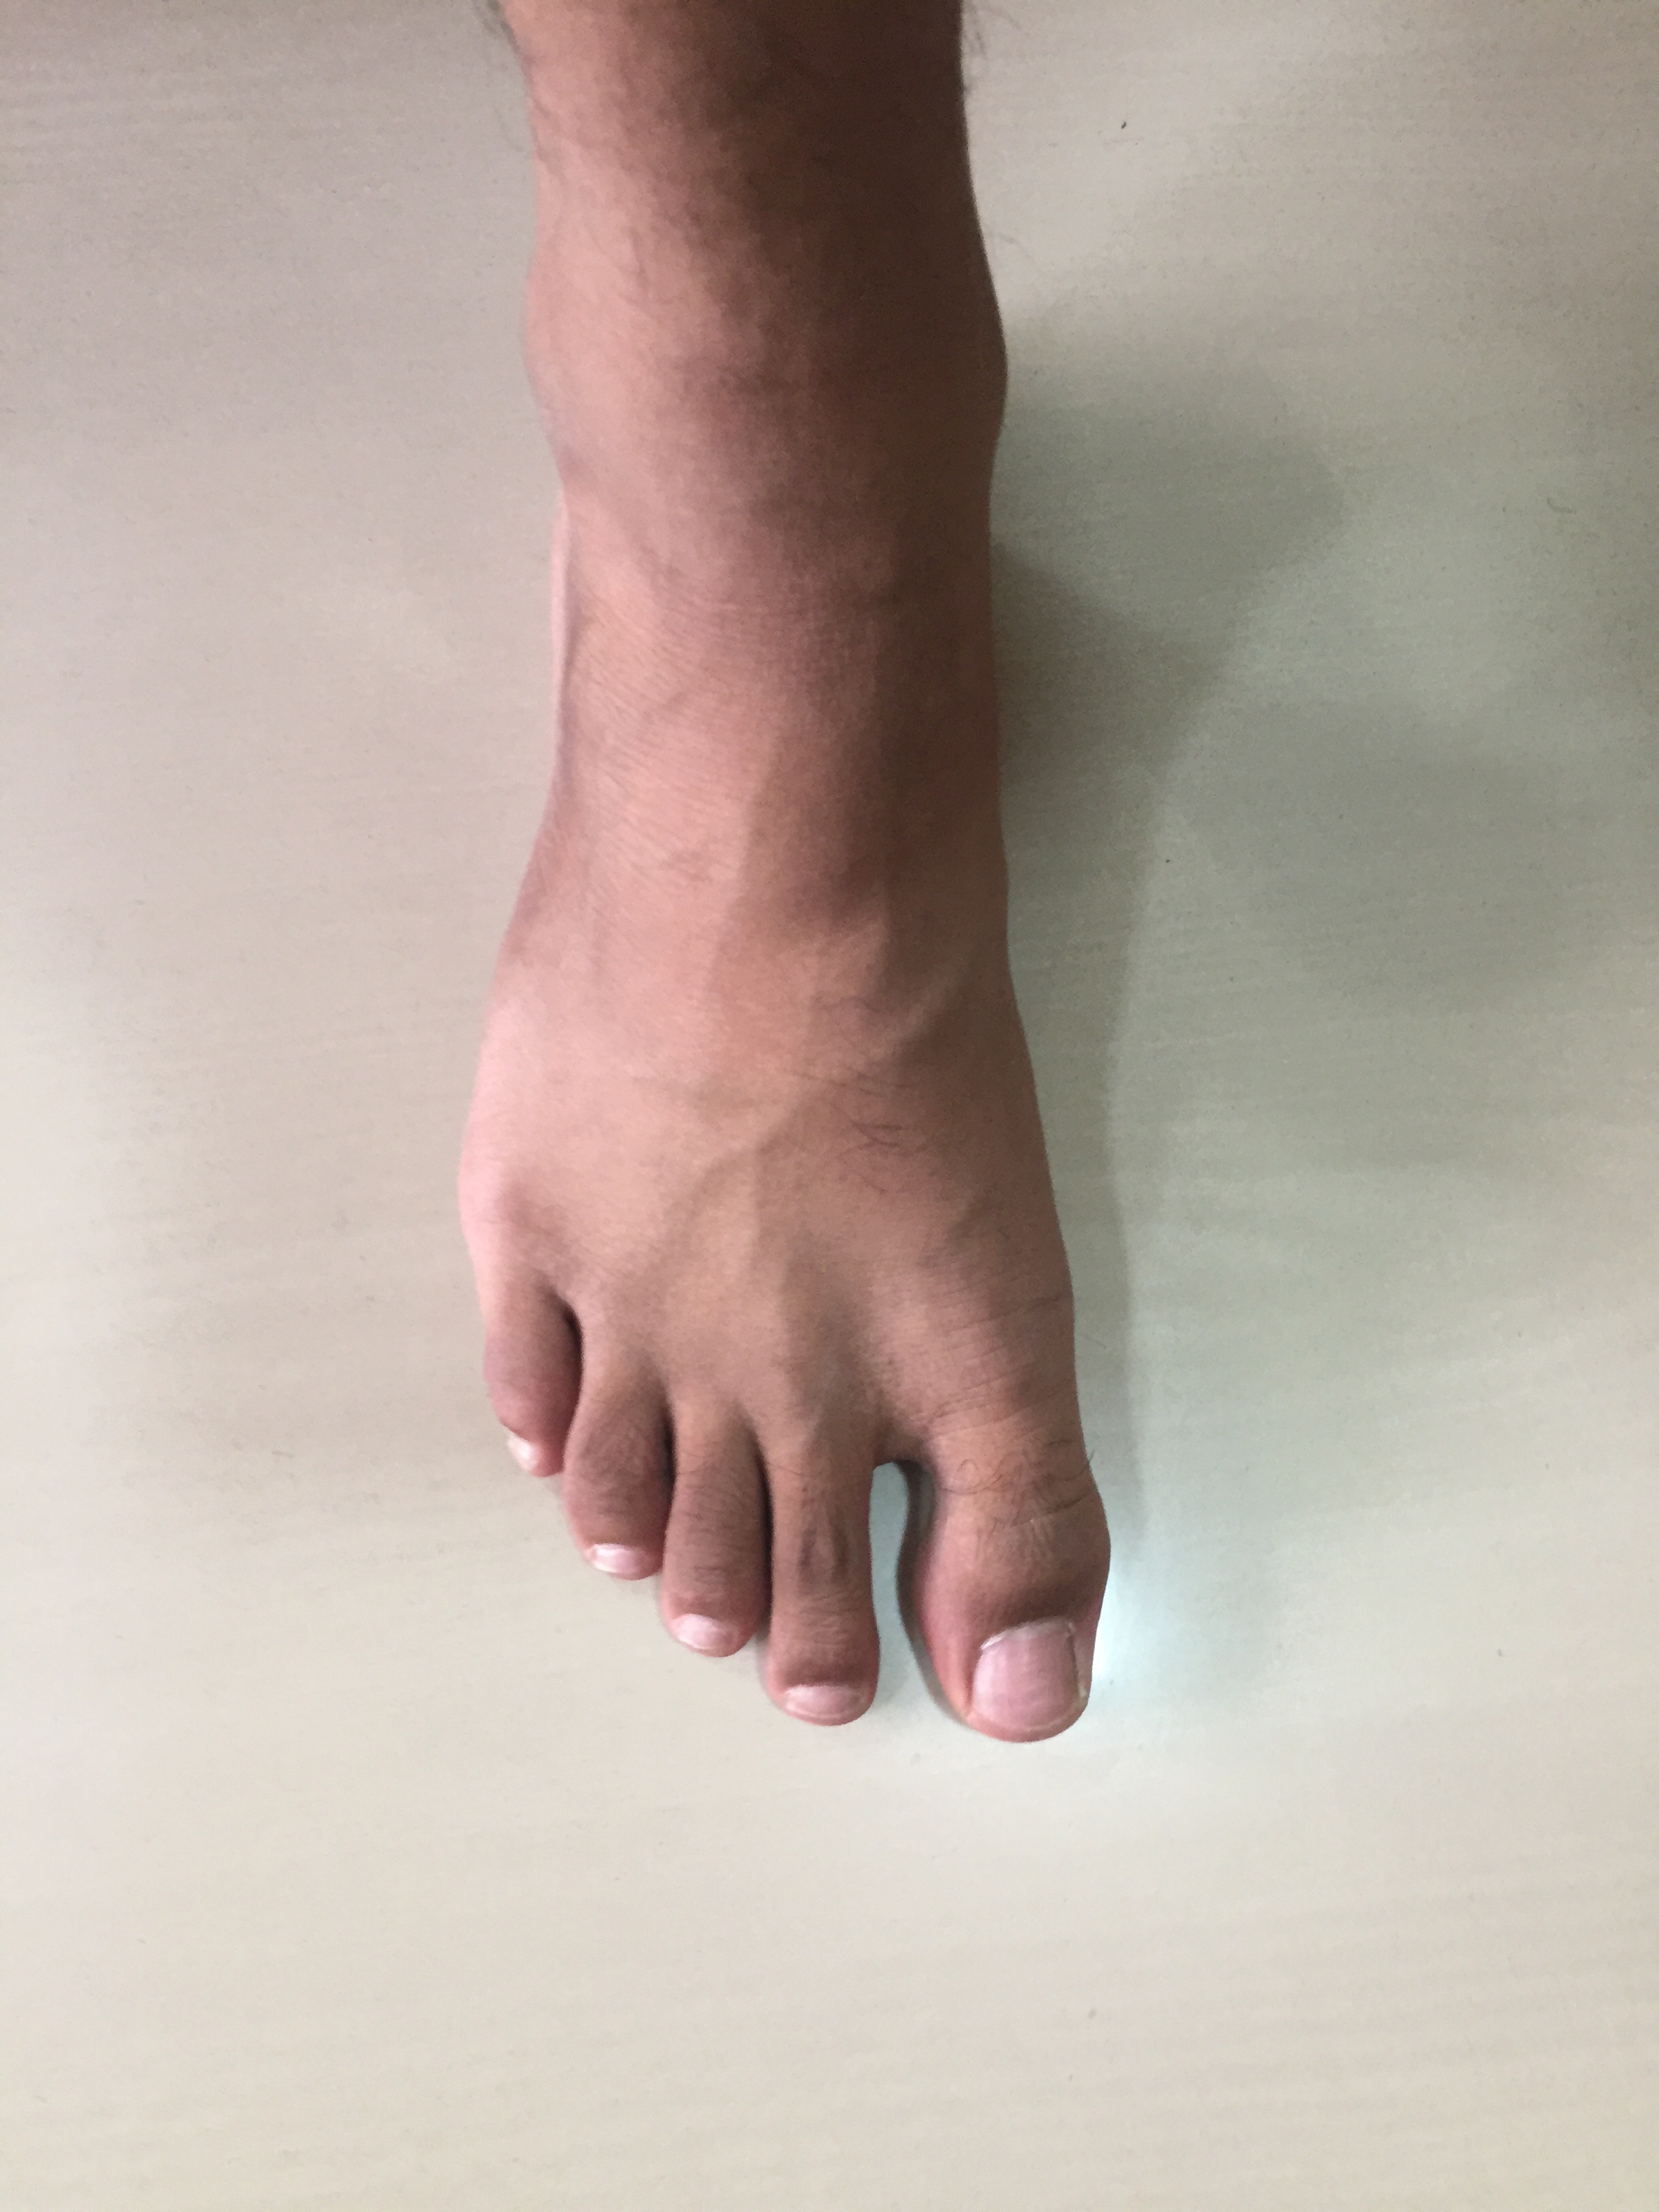feet: (338, 199, 1115, 1756)
